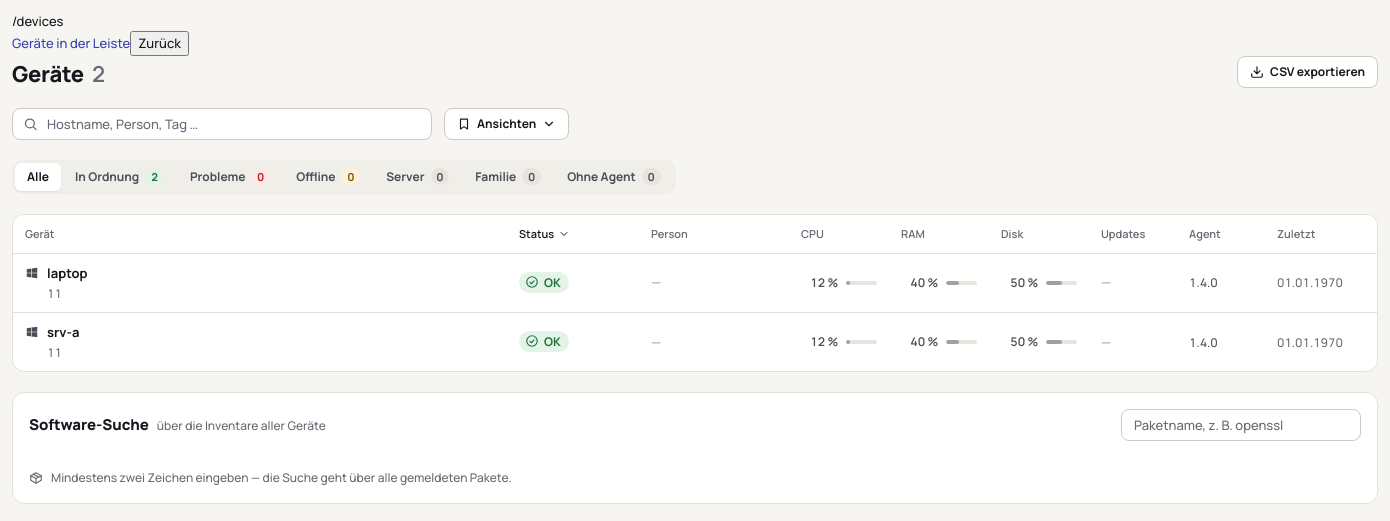
Test case: DevicesPage Suche und Person › verliert beim schnellen Tippen keine Zeichen
Type "srv" into the search field named "Geräte durchsuchen". click: (222, 124)
box: [12, 108, 432, 140]
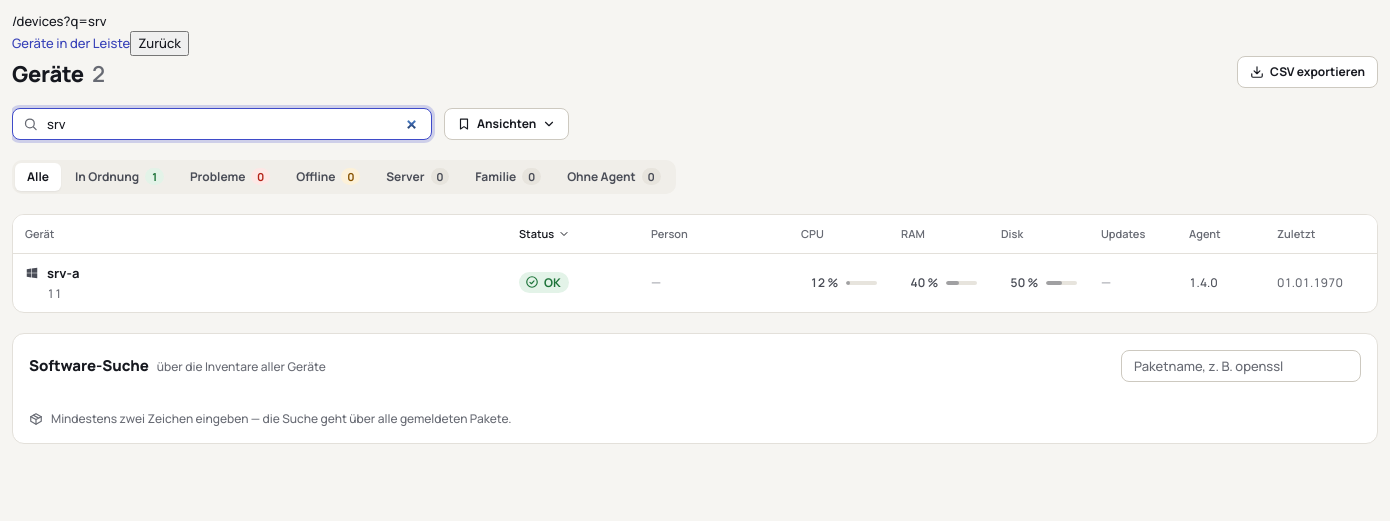
expect the text with test id "location" reads "/devices?q=srv": met, box [12, 12, 107, 30]
